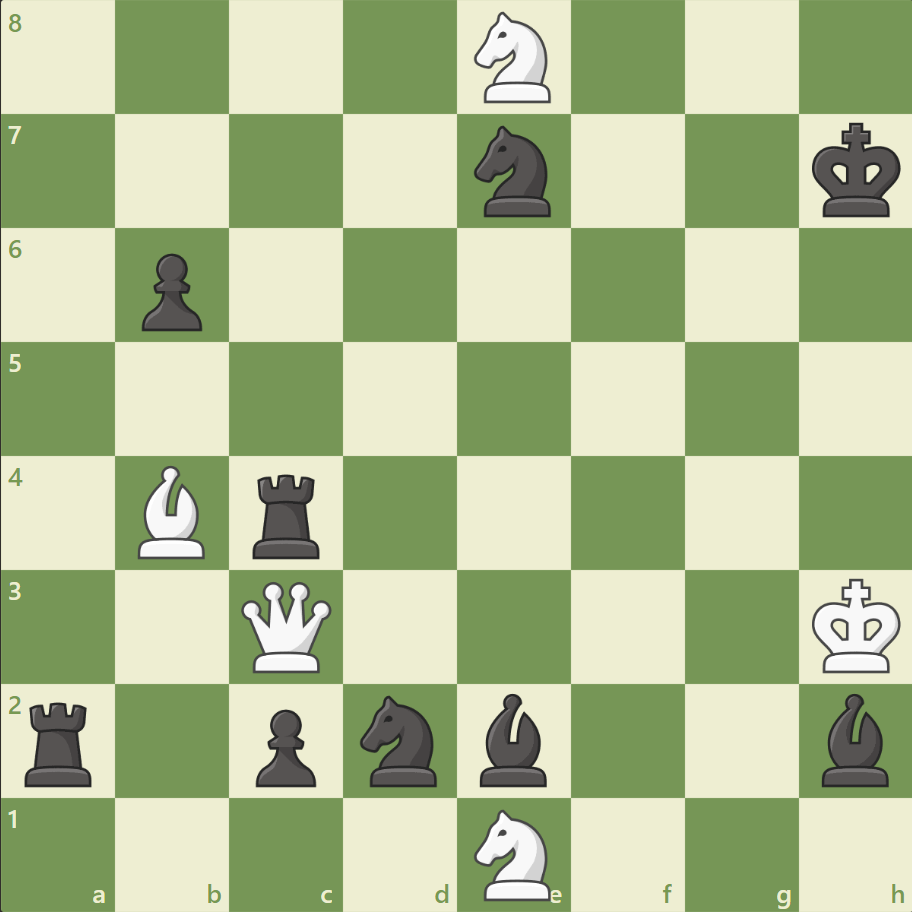B: (131, 460, 215, 563)
K: (806, 571, 906, 679)
N: (465, 7, 562, 110), (465, 802, 562, 904)
Q: (237, 576, 336, 676)
b: (471, 687, 555, 790), (812, 687, 896, 790)
k: (806, 117, 906, 225)
n: (351, 688, 449, 791), (465, 121, 562, 223)
p: (133, 246, 208, 337), (247, 700, 322, 791)
r: (246, 466, 329, 563), (19, 693, 102, 790)
